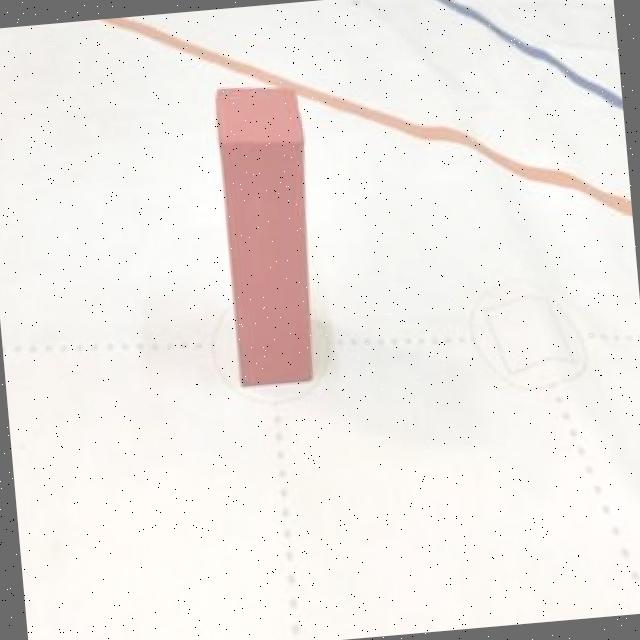redbox: (209, 78, 320, 389)
